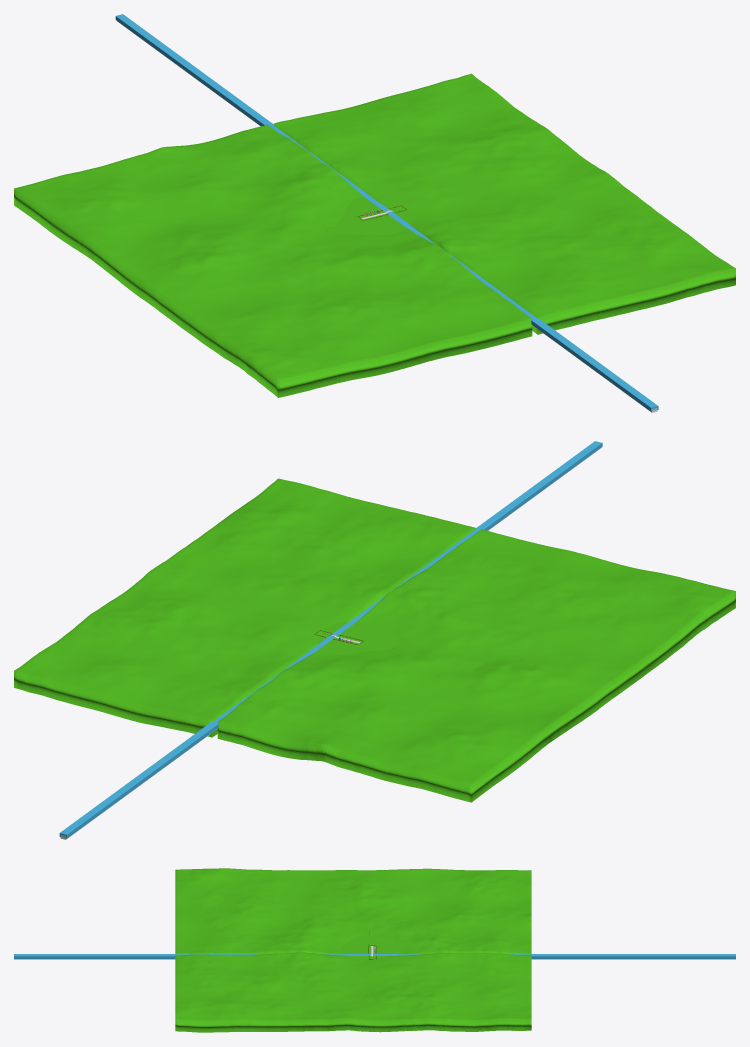
The model's file is soto.fbx.
The picture shows the model from 3 angles, top to bottom: view 1: azimuth 30°, elevation 25°; view 2: azimuth 150°, elevation 25°; view 3: azimuth 270°, elevation 25°; orthographic projection. The views are drawn at different scales.
Parts seen in each view (by area): view 1: Landscape.001, 立方体.002, Plane.004; view 2: Landscape.001, 立方体.002, Plane.004; view 3: Landscape.001, 立方体.002, Plane.004, 立方体.001.
Part boxes in pixels (x1,y1,x2,y2): Landscape.001: [14, 73, 735, 397]; 立方体.002: [115, 14, 658, 411]; Plane.004: [335, 197, 413, 235]; Landscape.001: [14, 478, 735, 802]; 立方体.002: [59, 441, 602, 838]; Plane.004: [314, 622, 398, 655]; Landscape.001: [175, 868, 531, 1032]; 立方体.002: [14, 954, 735, 958]; Plane.004: [341, 936, 402, 959]; 立方体.001: [14, 959, 735, 959].
Size of the model in its own units: 69998 by 3655 by 141836.
